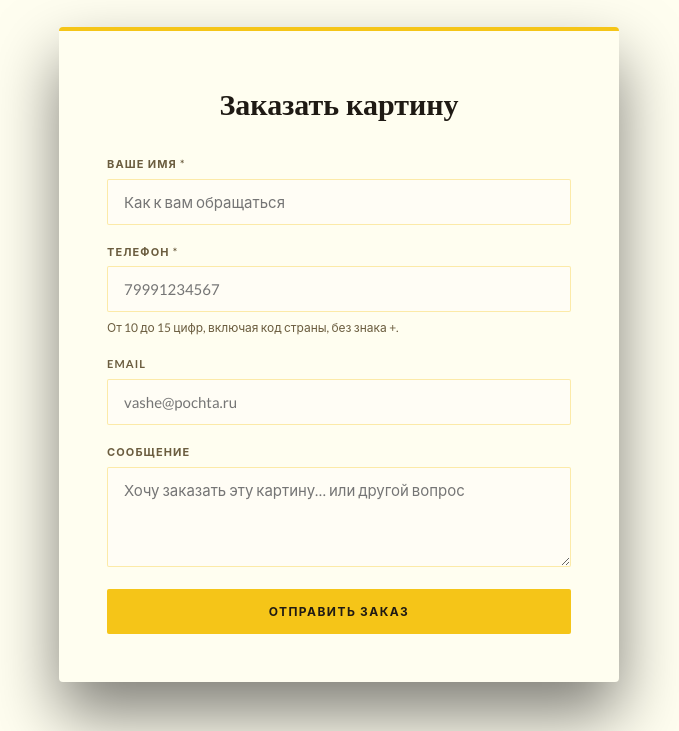
Test: Форма заказа › не отправляет неверные данные и фокусирует первое поле с ошибкой
Click the button "Отправить заказ" at (339, 611), box left=107, top=589, right=571, bottom=634
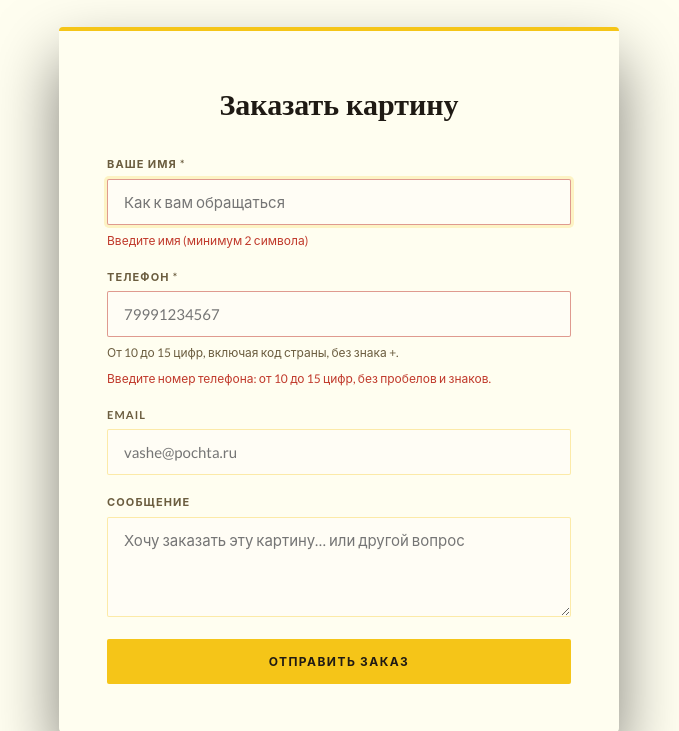
Expected: the text "Введите имя (минимум 2 символа)" is shown, left=107, top=233, right=308, bottom=248
